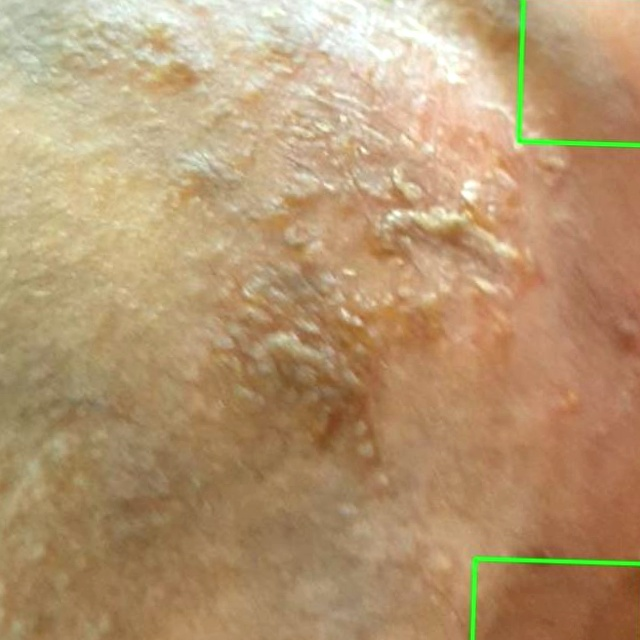Seborrheic Dermatitis: (518, 0, 639, 146), (472, 558, 639, 639)
